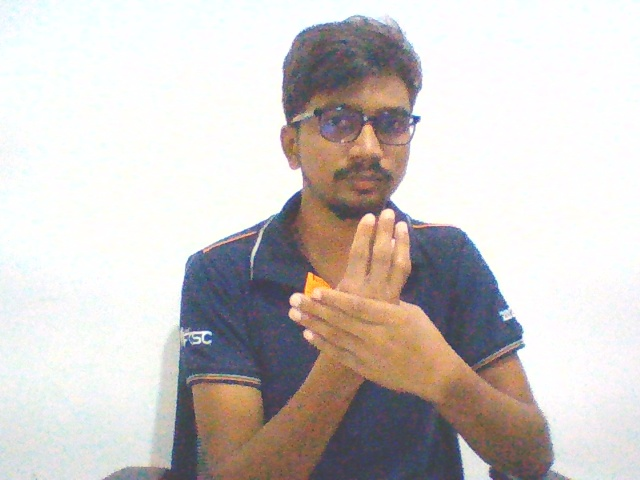tree: (276, 201, 459, 415)
